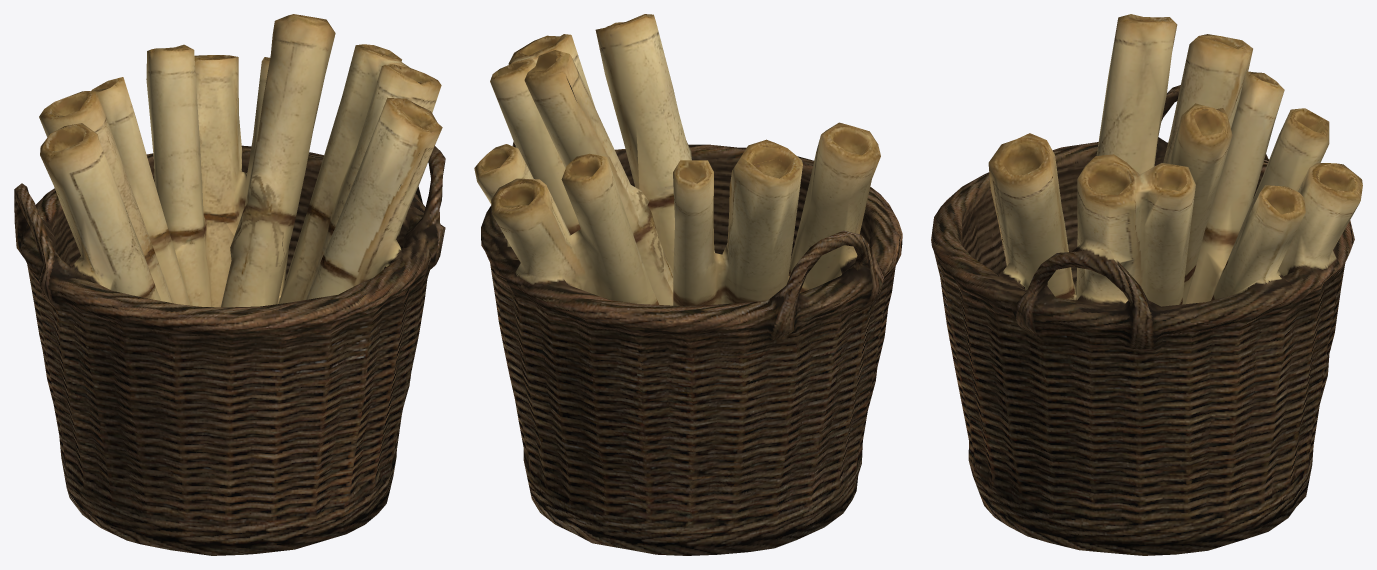
File: scroll_basket.glb
3 renders of one model, left to right at view 1: azimuth 30°, elevation 25°; view 2: azimuth 150°, elevation 25°; view 3: azimuth 270°, elevation 25°, orthographic.
Visible parts, largest first — view 1: scroll_basket; view 2: scroll_basket; view 3: scroll_basket.
Part boxes in pixels (left/top/right/bottom): scroll_basket: left=14, top=14, right=445, bottom=555; scroll_basket: left=474, top=14, right=902, bottom=555; scroll_basket: left=931, top=14, right=1362, bottom=555.
Bounding box in the file's own units: 0.4999 × 0.5382 × 0.4842.
1 material, 1 textured.
